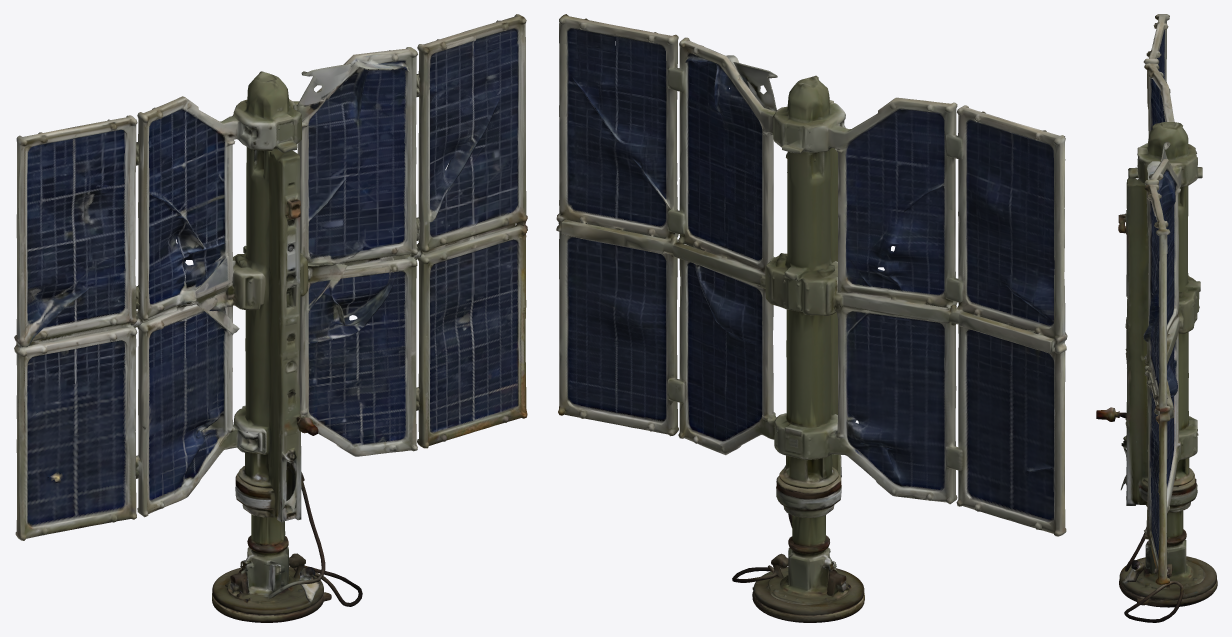
The model's file is shuttle_solar_panel_damaged.glb.
3 views of the same model, side by side, from view 1: azimuth 30°, elevation 25°; view 2: azimuth 150°, elevation 25°; view 3: azimuth 270°, elevation 25° (orthographic). The views are drawn at different scales.
Parts seen in each view (by area): view 1: tripo_node_a6567a87-f9c9-4a69-8ad7-a4d20dbb4eb7; view 2: tripo_node_a6567a87-f9c9-4a69-8ad7-a4d20dbb4eb7; view 3: tripo_node_a6567a87-f9c9-4a69-8ad7-a4d20dbb4eb7.
Part boxes in pixels (left/top/right/bottom): tripo_node_a6567a87-f9c9-4a69-8ad7-a4d20dbb4eb7: left=14, top=14, right=527, bottom=622; tripo_node_a6567a87-f9c9-4a69-8ad7-a4d20dbb4eb7: left=556, top=14, right=1067, bottom=622; tripo_node_a6567a87-f9c9-4a69-8ad7-a4d20dbb4eb7: left=1096, top=14, right=1217, bottom=622.
Size of the model in its own units: 0.9837 by 0.9748 by 0.229.
1 material, 1 textured.
